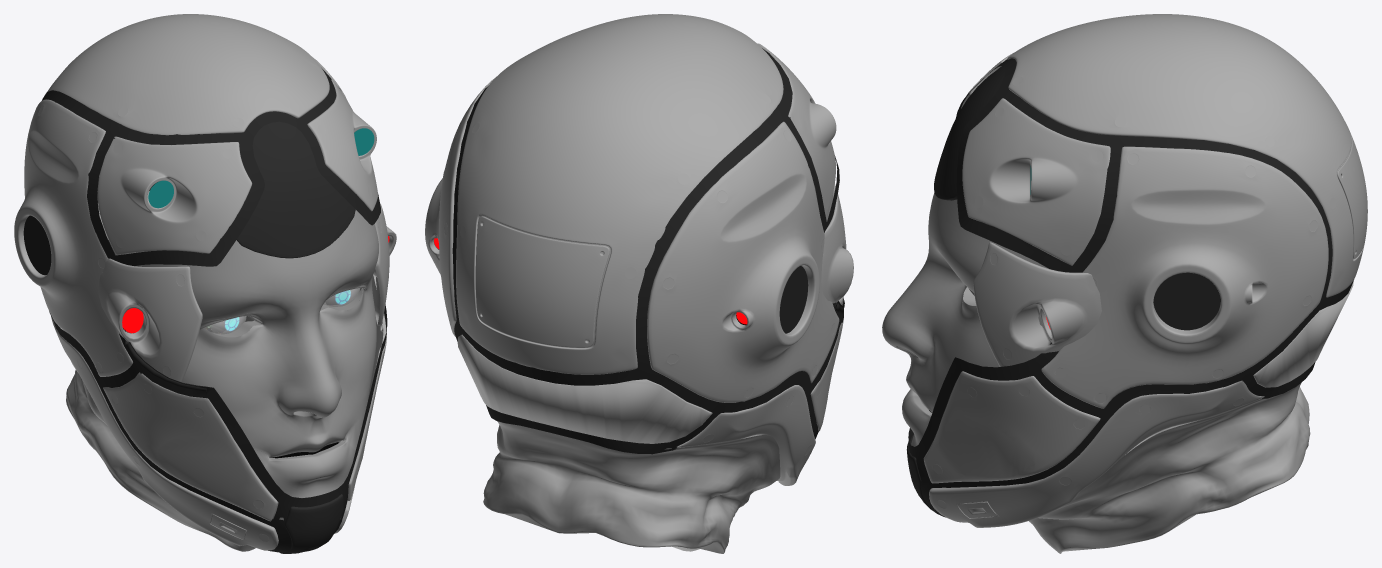
The model's file is SergioJAModel-original.glb.
The picture shows the model from 3 angles, left to right: view 1: azimuth 30°, elevation 25°; view 2: azimuth 150°, elevation 25°; view 3: azimuth 270°, elevation 25°; orthographic projection. The views are drawn at different scales.
Parts seen in each view (by area): view 1: polySurface2, cabeza pare superior, cinta del borde, oidos.004, Ojos superiores.002, ojos inferiores rojos, frente, Ojos medios, barbilla lateral.001, cuello, Ojos superiores, mentonera (+4 smaller); view 2: cabeza pare superior, oidos.004, cuello, cinta del borde, cinta del borde.002, barbilla lateral.001, oidos, Ojos superiores.002, Ojos medios, oidos.002, ojos inferiores rojos; view 3: oidos, cabeza pare superior, cuello, cinta del borde, Ojos superiores, polySurface2, ojos inferiores rojos.001, barbilla lateral, Ojos medios .001, oidos.001, cinta del borde.002, frente.
Part boxes in pixels (x1,y1,x2,y2): polySurface2: (108,210,378,520); cabeza pare superior: (47,14,329,135); cinta del borde: (42,69,387,552); oidos.004: (14,99,132,376); Ojos superiores.002: (97,136,252,255); ojos inferiores rojos: (103,372,277,521); frente: (236,121,355,258); Ojos medios: (98,258,202,382); barbilla lateral.001: (51,316,278,550); cuello: (66,316,255,551); Ojos superiores: (307,79,377,211); mentonera: (280,494,343,553); cabeza pare superior: (456,14,783,374); oidos.004: (647,121,839,402); cuello: (483,421,780,553); cinta del borde: (452,48,844,454); cinta del borde.002: (457,334,712,443); barbilla lateral.001: (676,385,815,485); oidos: (425,77,495,336); Ojos superiores.002: (757,43,836,218); Ojos medios: (821,183,853,305); oidos.002: (779,266,808,333); ojos inferiores rojos: (810,322,843,431); oidos: (1041,146,1328,408); cabeza pare superior: (1007,14,1367,297); cuello: (1029,382,1310,553); cinta del borde: (908,58,1353,516); Ojos superiores: (962,98,1110,265); polySurface2: (882,192,1061,459); ojos inferiores rojos.001: (924,371,1100,483); barbilla lateral: (929,380,1264,527); Ojos medios .001: (973,242,1101,366); oidos.001: (1153,272,1220,330); cinta del borde.002: (1253,281,1353,387); frente: (934,66,1005,200).
Size of the model in its own units: 0.5607 by 0.839 by 0.7117.
Materials: 8 (2 with a texture image).
